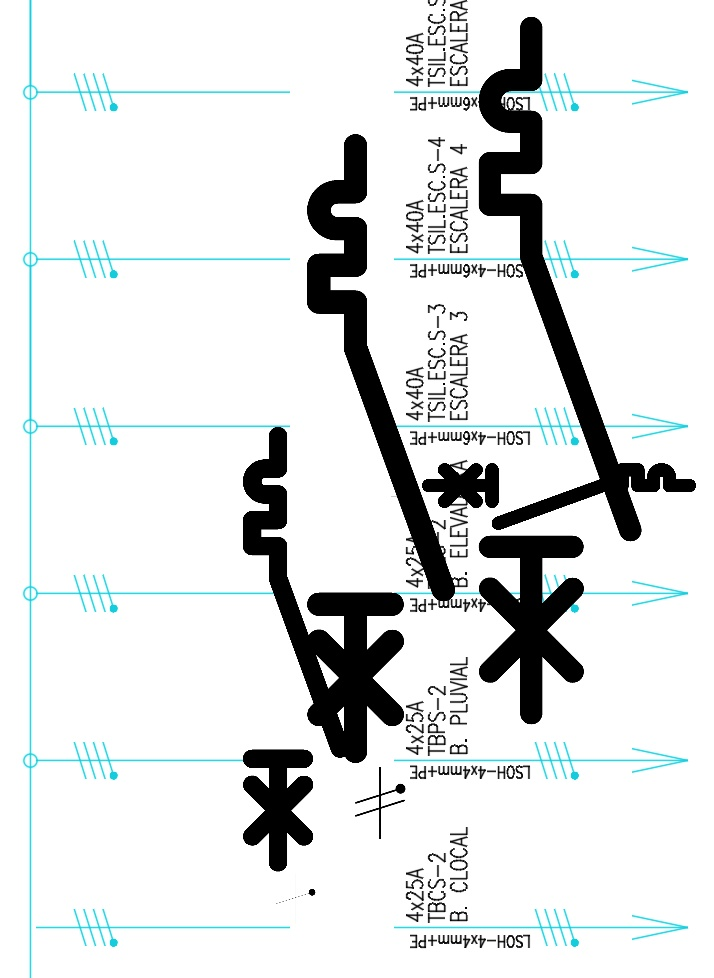interruptor_termomagnetico: (472, 10, 648, 730), (303, 130, 459, 766), (241, 425, 350, 873), (422, 463, 696, 530)
